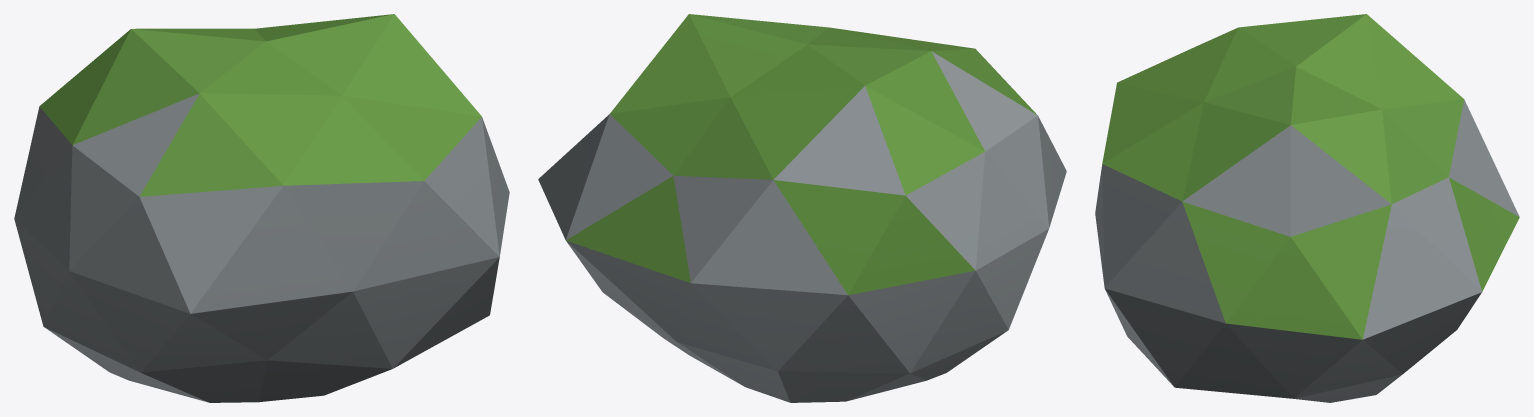
Rendered from rock_mossy_a_low.glb.
The picture shows the model from 3 angles, left to right: view 1: azimuth 30°, elevation 25°; view 2: azimuth 150°, elevation 25°; view 3: azimuth 270°, elevation 25°; orthographic projection. The views are drawn at different scales.
Bounding box in the file's own units: 2.06 × 1.3 × 1.73.
